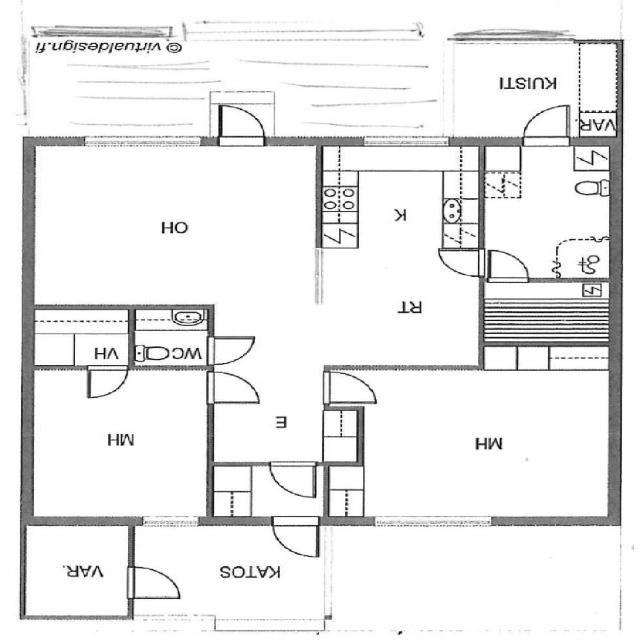door: (320, 140, 477, 368), (514, 102, 576, 148), (320, 366, 386, 408), (262, 458, 324, 502), (214, 102, 270, 149), (123, 561, 186, 602), (266, 515, 323, 560), (205, 369, 265, 408), (200, 332, 260, 366), (483, 247, 535, 283), (433, 245, 486, 278), (83, 364, 130, 400)
window: (79, 134, 203, 155), (354, 135, 453, 150), (467, 32, 572, 44)
zone: (30, 142, 321, 308), (340, 358, 622, 524), (312, 144, 485, 372), (27, 365, 215, 519), (128, 522, 326, 632), (479, 142, 618, 282), (22, 521, 132, 621), (478, 278, 614, 346), (33, 308, 131, 368), (132, 306, 211, 369)
